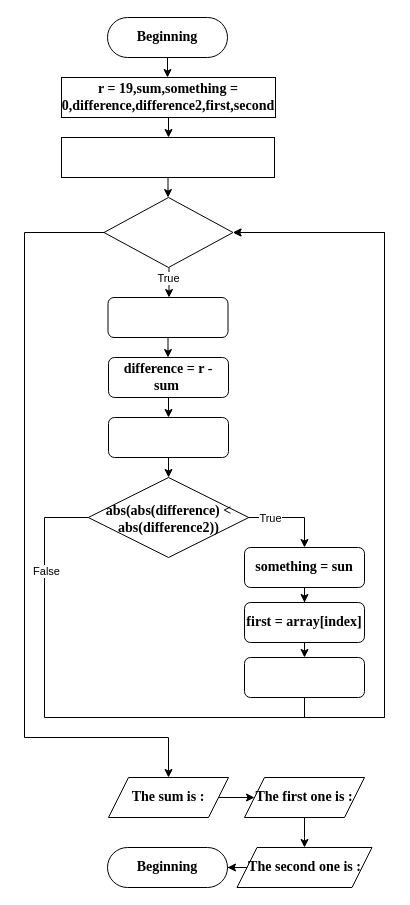
Image size: 410x905. Some labels were removed from this diagram. Each missing label, with the centre of its shape:
array[10] = {9, 5, 8, 7, 1, 3, 2, 5, 6, 3}: [167,157]
difference = r - something: [168,437]
index = 0;index < 9;index++: [168,232]
second = array[index + 1]: [304,677]
sum = array[index] + array[index + 1]: [167,317]
